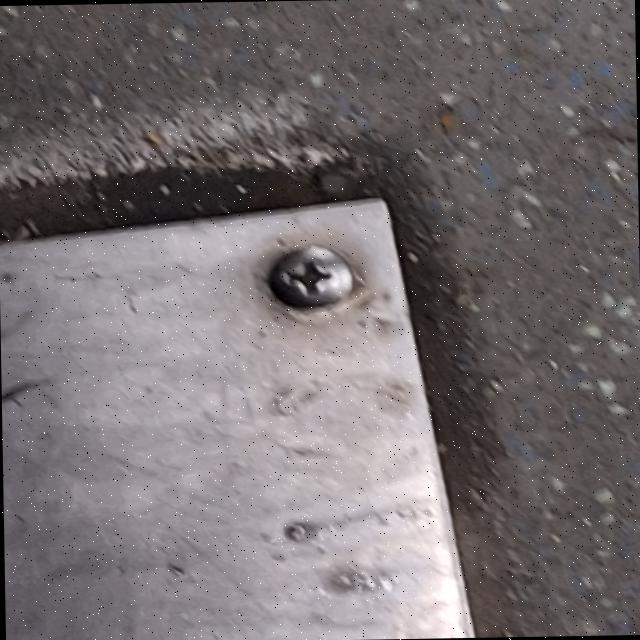Phillips: (256, 237, 375, 320)
